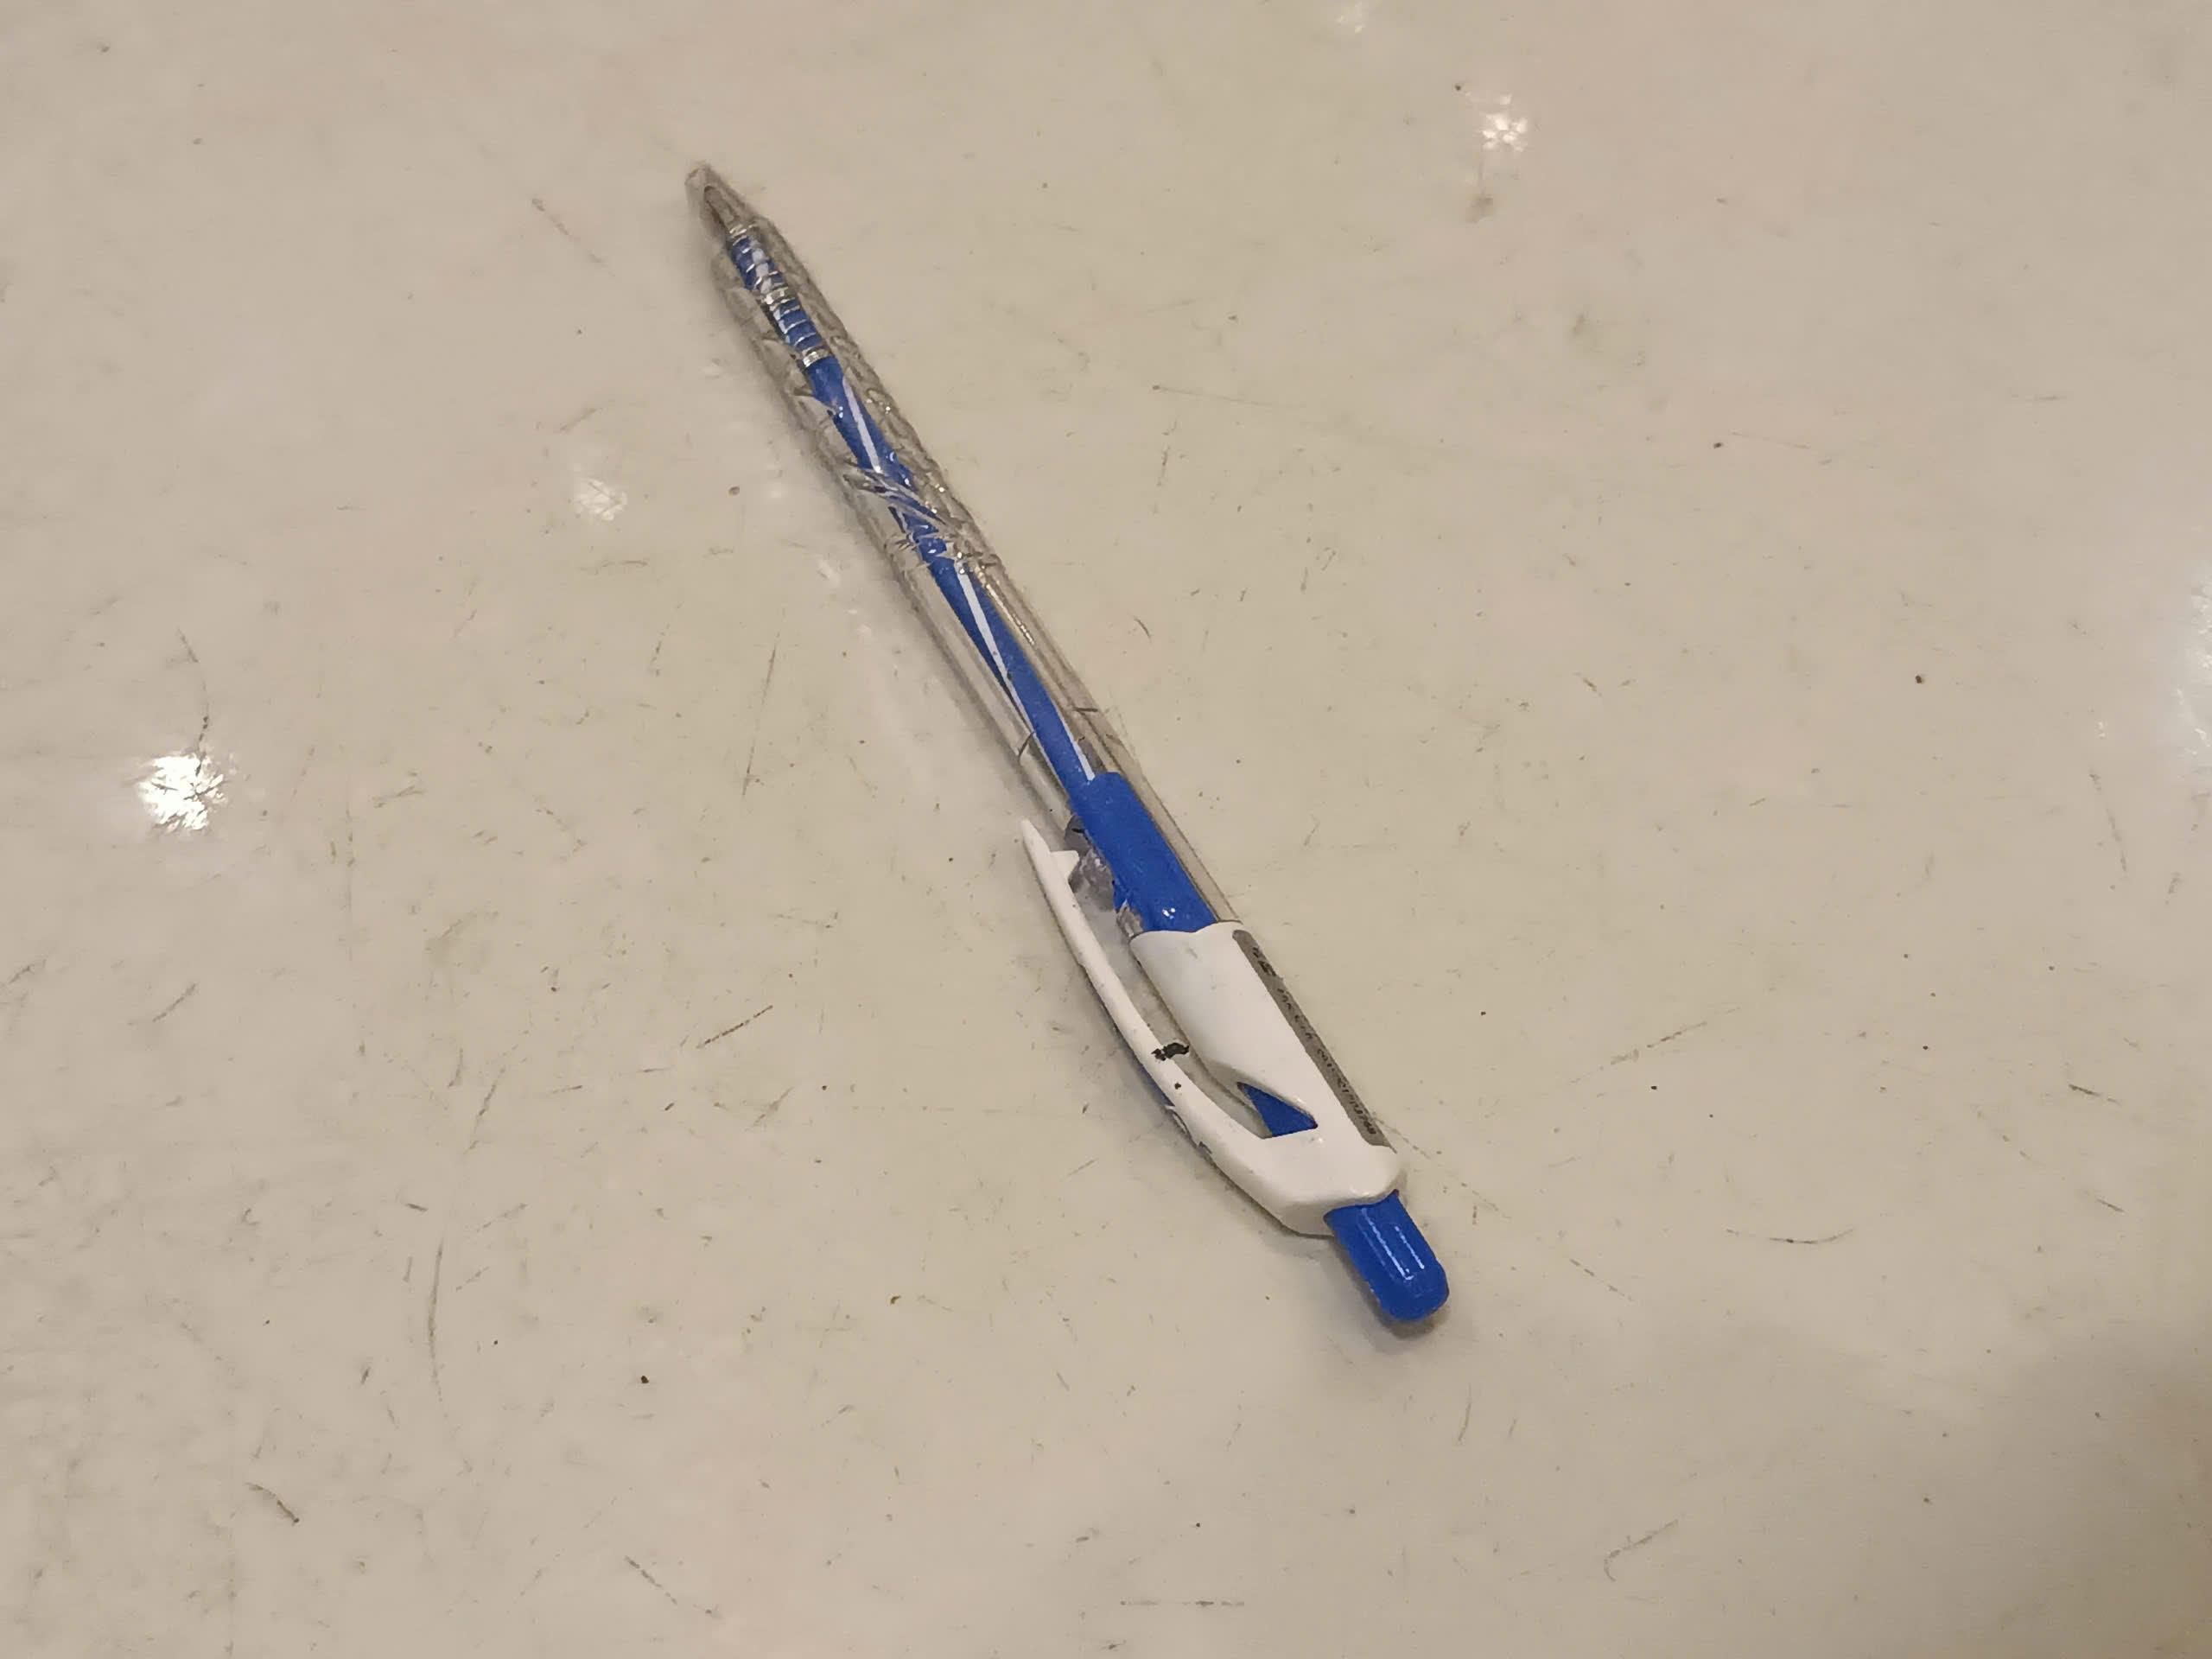Con lai: (679, 159, 1454, 1337)
